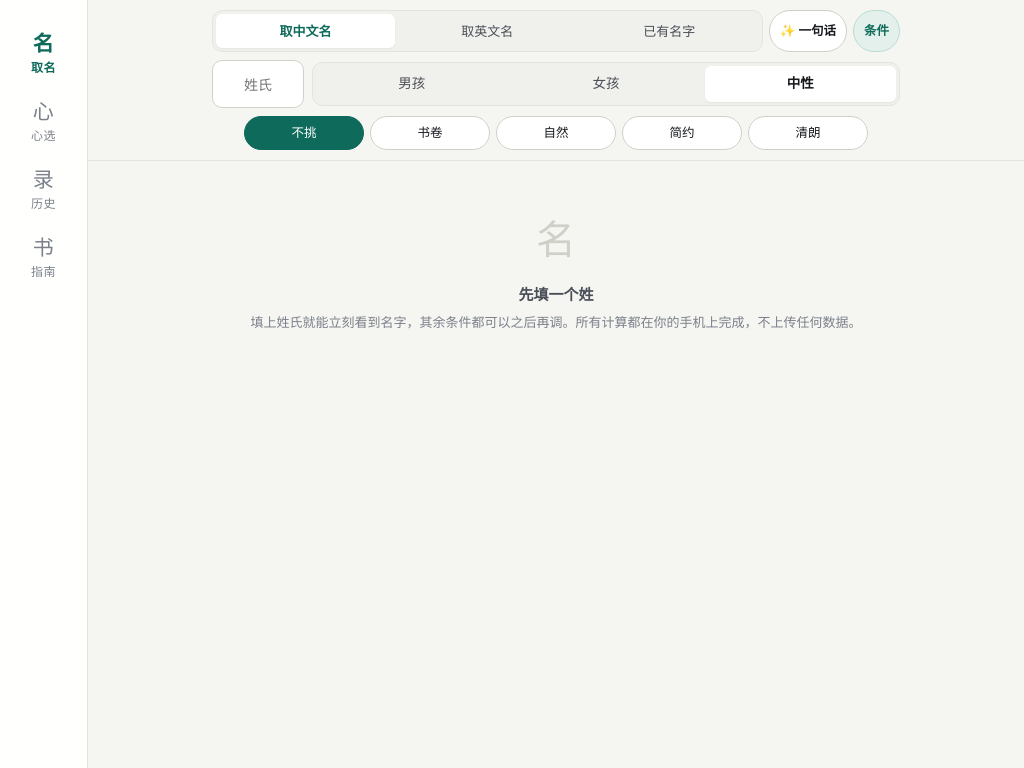
Test: 主流程 › 按 Esc 能关掉弹层
The image size is (1024, 768).
Type "林" into the field named "宝宝的姓氏" at (258, 84), box [212,60,304,108]
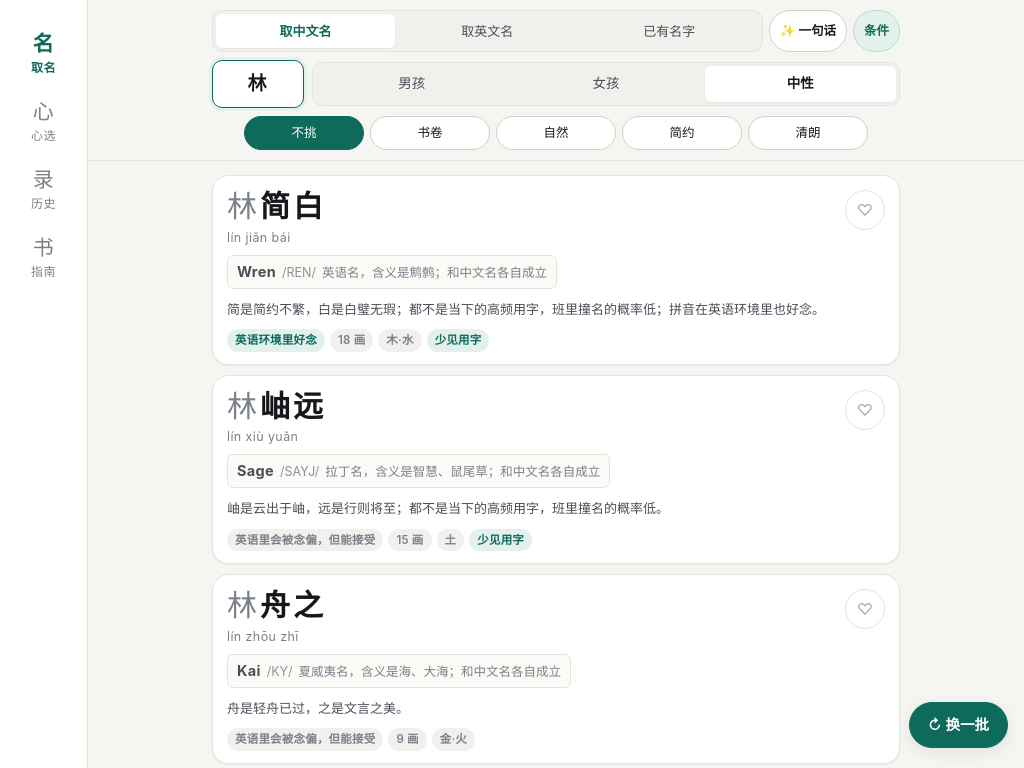
Click the button with aria-label "点开看详细解释" at (556, 270), box [212,175,900,365]
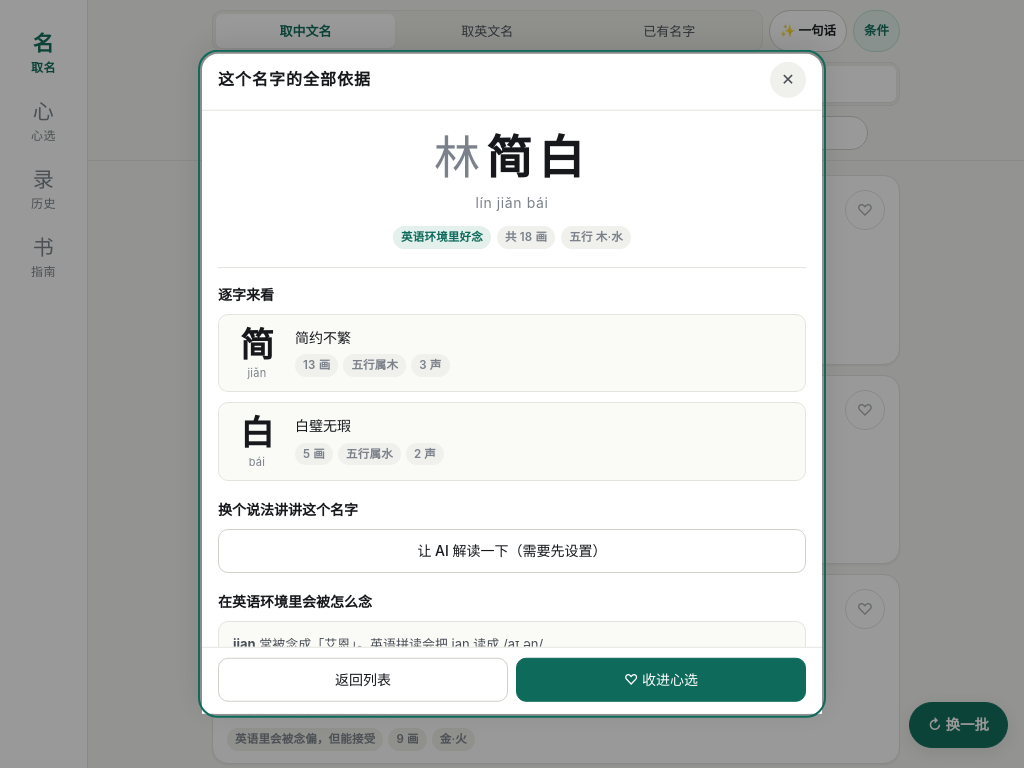
Check: the dialog is shown, box [202,54,822,714]
Press Escape
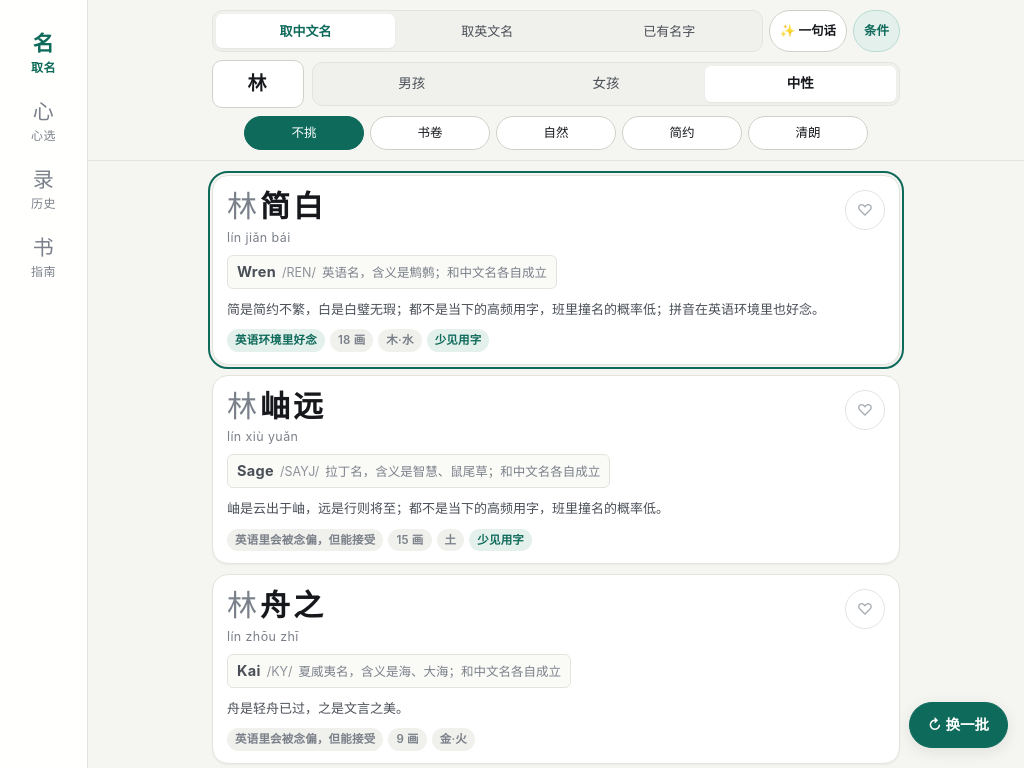
Check: the dialog is gone
